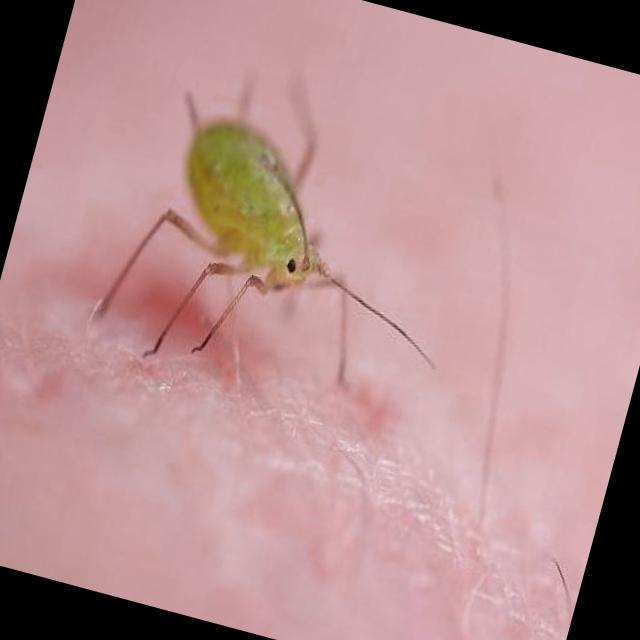aphid: (41, 24, 492, 458)
